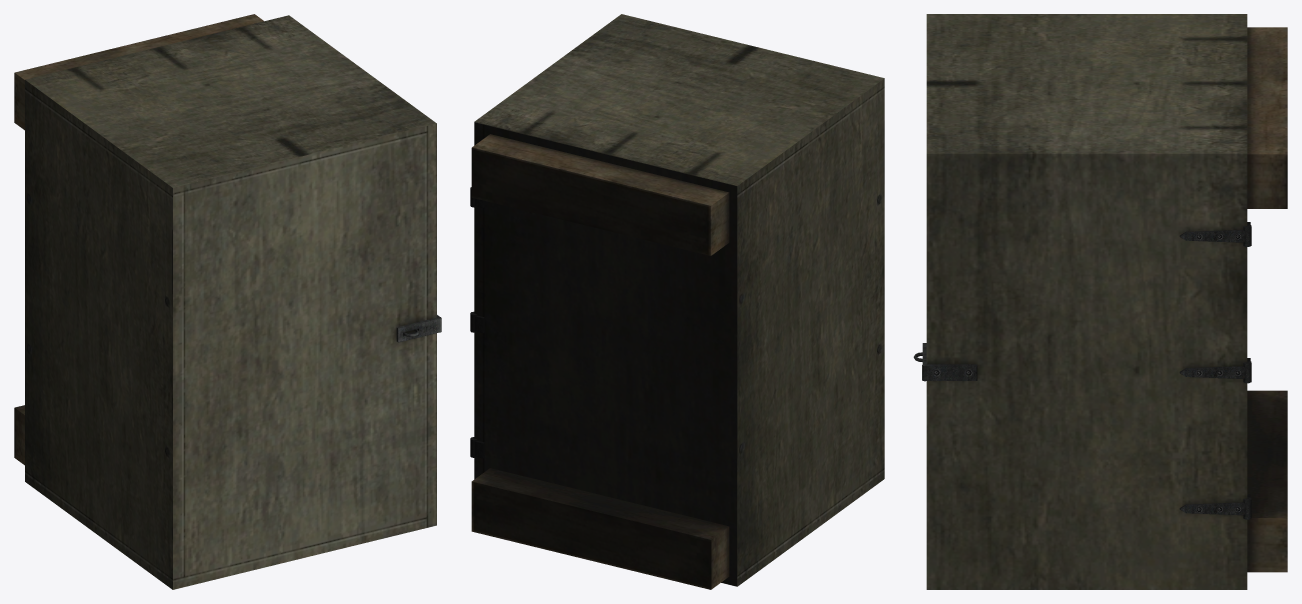
File: crate1.obj
3 views of the same model, side by side, from view 1: azimuth 30°, elevation 25°; view 2: azimuth 150°, elevation 25°; view 3: azimuth 270°, elevation 25° (orthographic). The views are drawn at different scales.
Visible parts, largest first — view 1: studio.cratelat_ref.mesh_0; view 2: studio.cratelat_ref.mesh_0; view 3: studio.cratelat_ref.mesh_0.
Boxes of the visible parts, box(x1,y1,x2,y2) form: studio.cratelat_ref.mesh_0: box(14, 14, 441, 589); studio.cratelat_ref.mesh_0: box(470, 14, 884, 589); studio.cratelat_ref.mesh_0: box(913, 14, 1287, 589).
Bounding box in the file's own units: 23.74 × 34.08 × 26.49.
1 material, 1 textured.
